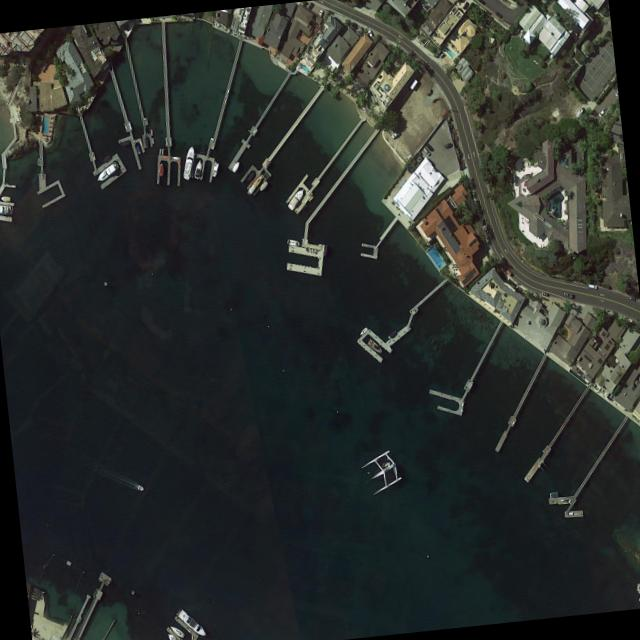ship: (358, 445, 404, 497), (177, 607, 207, 637), (94, 159, 119, 183), (182, 144, 195, 178), (286, 186, 305, 209), (366, 337, 383, 353), (168, 623, 184, 637), (245, 168, 256, 182), (194, 158, 202, 177), (165, 630, 178, 640), (258, 178, 268, 191), (211, 160, 219, 176), (386, 328, 397, 338), (101, 152, 111, 163), (231, 159, 240, 171), (286, 237, 299, 245), (358, 325, 367, 335), (120, 137, 130, 146), (305, 1, 314, 10), (0, 194, 10, 201), (136, 483, 144, 491), (322, 243, 327, 255), (144, 136, 149, 147), (317, 8, 323, 17), (159, 162, 163, 173), (636, 582, 640, 590)
small-vehicle: (597, 105, 607, 117), (424, 140, 434, 151), (390, 128, 400, 138), (562, 289, 573, 297), (367, 28, 374, 40), (422, 146, 430, 155), (628, 294, 636, 301), (444, 141, 452, 148), (541, 289, 549, 296), (494, 10, 502, 17), (438, 48, 444, 57), (587, 282, 596, 288), (478, 0, 485, 4)
